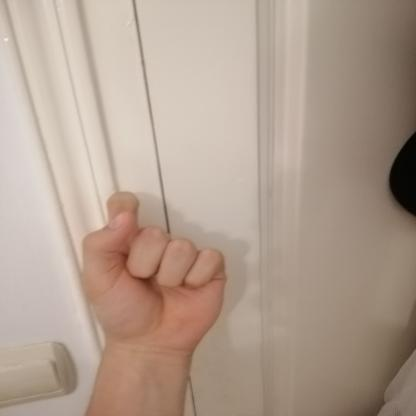FAA: (63, 183, 244, 366)
